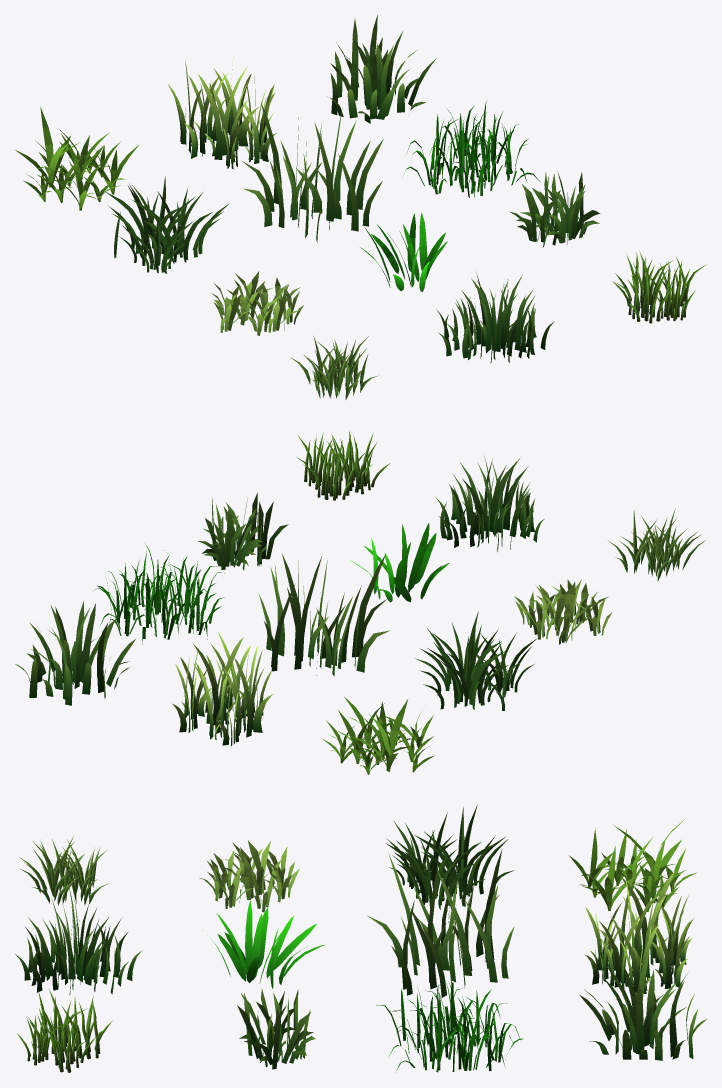
3 renders of one model, top to bottom at view 1: azimuth 30°, elevation 25°; view 2: azimuth 150°, elevation 25°; view 3: azimuth 270°, elevation 25°, orthographic. The views are drawn at different scales.
Parts seen in each view (by area): view 1: 749ab4a2-019f-4fd7-8078-e702794d5faa, 8aae7432-6194-4480-96e3-d6f4915b7b20, 0f39790f-197e-4e5e-9c9a-9b2d0897cbc0, ad1d8b5c-8dfe-4bac-ae96-fe77fd00d1d9, 779f5247-b204-4549-a937-813e28d5ec3f, c42fdffb-98ed-496a-bd59-067ac2ac2be1, c77e057a-b8d1-4dea-9701-b070bea557ed, 5d85ac8b-5d1a-40ea-9389-5bb403d7938c, 2378de1a-3e08-4a4a-9bfc-1848dd1bf09a, 1f2ebd88-2c75-4de3-b5bc-2cc063cec5ff, 30491c0a-3e42-4ece-8a6b-990d60e55366, 8f2ca62b-b050-4b18-b3f8-7438bade85b6; view 2: 749ab4a2-019f-4fd7-8078-e702794d5faa, 8aae7432-6194-4480-96e3-d6f4915b7b20, ad1d8b5c-8dfe-4bac-ae96-fe77fd00d1d9, c42fdffb-98ed-496a-bd59-067ac2ac2be1, 779f5247-b204-4549-a937-813e28d5ec3f, 0f39790f-197e-4e5e-9c9a-9b2d0897cbc0, c77e057a-b8d1-4dea-9701-b070bea557ed, 5d85ac8b-5d1a-40ea-9389-5bb403d7938c, 2378de1a-3e08-4a4a-9bfc-1848dd1bf09a, 1f2ebd88-2c75-4de3-b5bc-2cc063cec5ff, 8f2ca62b-b050-4b18-b3f8-7438bade85b6, 30491c0a-3e42-4ece-8a6b-990d60e55366; view 3: 749ab4a2-019f-4fd7-8078-e702794d5faa, 8aae7432-6194-4480-96e3-d6f4915b7b20, ad1d8b5c-8dfe-4bac-ae96-fe77fd00d1d9, c42fdffb-98ed-496a-bd59-067ac2ac2be1, 779f5247-b204-4549-a937-813e28d5ec3f, 0f39790f-197e-4e5e-9c9a-9b2d0897cbc0, c77e057a-b8d1-4dea-9701-b070bea557ed, 1f2ebd88-2c75-4de3-b5bc-2cc063cec5ff, 2378de1a-3e08-4a4a-9bfc-1848dd1bf09a, 30491c0a-3e42-4ece-8a6b-990d60e55366, 5d85ac8b-5d1a-40ea-9389-5bb403d7938c, 8f2ca62b-b050-4b18-b3f8-7438bade85b6.
Boxes of the visible parts, x1,y1,x2,y2 form: 749ab4a2-019f-4fd7-8078-e702794d5faa: (242,102,383,242); 8aae7432-6194-4480-96e3-d6f4915b7b20: (168,53,276,169); 0f39790f-197e-4e5e-9c9a-9b2d0897cbc0: (327,15,436,123); ad1d8b5c-8dfe-4bac-ae96-fe77fd00d1d9: (436,272,554,363); 779f5247-b204-4549-a937-813e28d5ec3f: (105,176,229,273); c42fdffb-98ed-496a-bd59-067ac2ac2be1: (403,101,540,197); c77e057a-b8d1-4dea-9701-b070bea557ed: (15,106,139,210); 5d85ac8b-5d1a-40ea-9389-5bb403d7938c: (509,171,600,247); 2378de1a-3e08-4a4a-9bfc-1848dd1bf09a: (612,251,706,323); 1f2ebd88-2c75-4de3-b5bc-2cc063cec5ff: (211,271,303,335); 30491c0a-3e42-4ece-8a6b-990d60e55366: (360,213,447,291); 8f2ca62b-b050-4b18-b3f8-7438bade85b6: (290,336,378,399); 749ab4a2-019f-4fd7-8078-e702794d5faa: (258,553,390,676); 8aae7432-6194-4480-96e3-d6f4915b7b20: (172,632,273,746); ad1d8b5c-8dfe-4bac-ae96-fe77fd00d1d9: (435,456,544,551); c42fdffb-98ed-496a-bd59-067ac2ac2be1: (95,544,224,644); 779f5247-b204-4549-a937-813e28d5ec3f: (415,611,537,710); 0f39790f-197e-4e5e-9c9a-9b2d0897cbc0: (15,601,135,705); c77e057a-b8d1-4dea-9701-b070bea557ed: (322,696,434,774); 5d85ac8b-5d1a-40ea-9389-5bb403d7938c: (198,492,288,569); 2378de1a-3e08-4a4a-9bfc-1848dd1bf09a: (297,431,390,500); 1f2ebd88-2c75-4de3-b5bc-2cc063cec5ff: (514,579,611,644); 8f2ca62b-b050-4b18-b3f8-7438bade85b6: (608,509,705,581); 30491c0a-3e42-4ece-8a6b-990d60e55366: (350,523,449,602); 749ab4a2-019f-4fd7-8078-e702794d5faa: (367,849,514,997); 8aae7432-6194-4480-96e3-d6f4915b7b20: (585,869,693,993); ad1d8b5c-8dfe-4bac-ae96-fe77fd00d1d9: (14,884,142,995); c42fdffb-98ed-496a-bd59-067ac2ac2be1: (376,982,523,1072); 779f5247-b204-4549-a937-813e28d5ec3f: (386,804,514,909); 0f39790f-197e-4e5e-9c9a-9b2d0897cbc0: (579,950,706,1060); c77e057a-b8d1-4dea-9701-b070bea557ed: (569,818,697,911); 1f2ebd88-2c75-4de3-b5bc-2cc063cec5ff: (199,840,299,912); 2378de1a-3e08-4a4a-9bfc-1848dd1bf09a: (17,989,112,1072); 30491c0a-3e42-4ece-8a6b-990d60e55366: (209,900,325,988); 5d85ac8b-5d1a-40ea-9389-5bb403d7938c: (237,989,315,1069); 8f2ca62b-b050-4b18-b3f8-7438bade85b6: (19,836,108,905).
Size of the model in its own units: 7423 by 1844 by 10022.
Materials: 1 (1 with a texture image).
